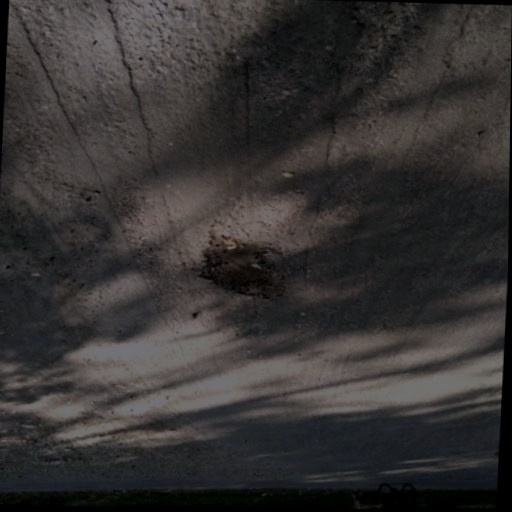pothole: (189, 226, 292, 303)
